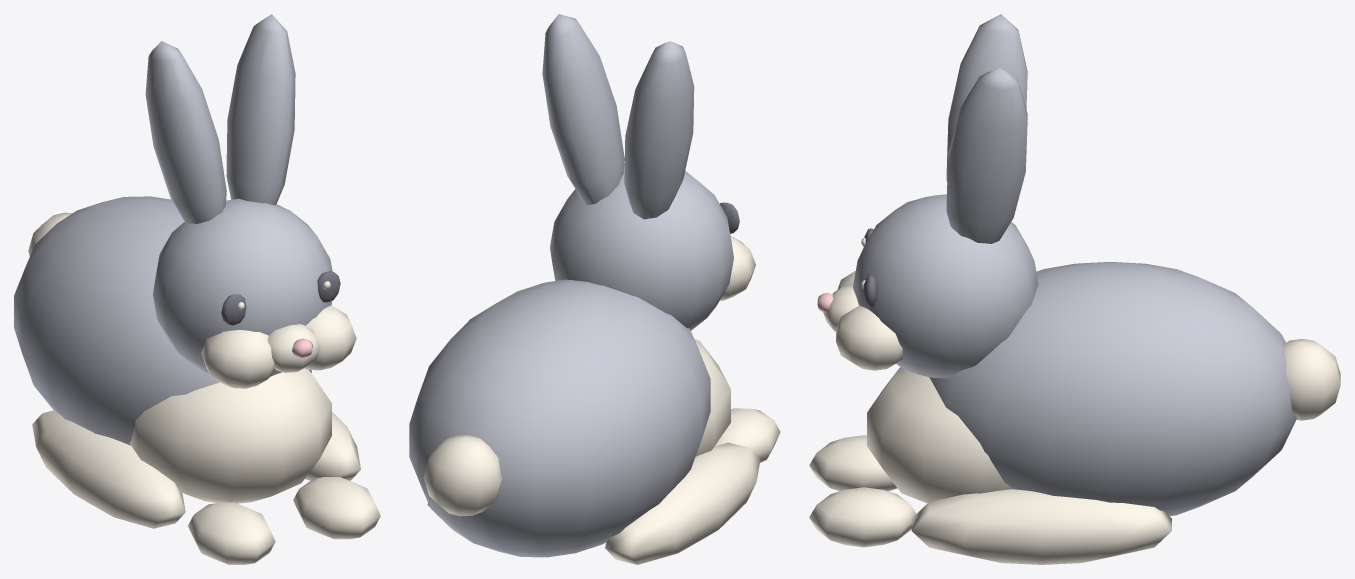
File: rabbit.glb
3 renders of one model, left to right at view 1: azimuth 30°, elevation 25°; view 2: azimuth 150°, elevation 25°; view 3: azimuth 270°, elevation 25°, orthographic.
Parts seen in each view (by area): view 1: rabbit; view 2: rabbit; view 3: rabbit.
Part boxes in pixels (bbox=[...]): rabbit: bbox=[14, 14, 380, 564]; rabbit: bbox=[409, 14, 780, 564]; rabbit: bbox=[809, 14, 1340, 564].
Bounding box in the file's own units: 0.22 × 0.383 × 0.3885.
